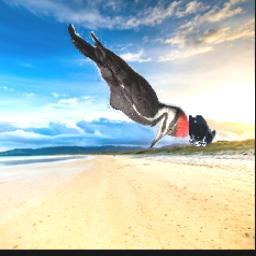Crow: (188, 116, 215, 147)
Woodpecker: (62, 25, 190, 148)
